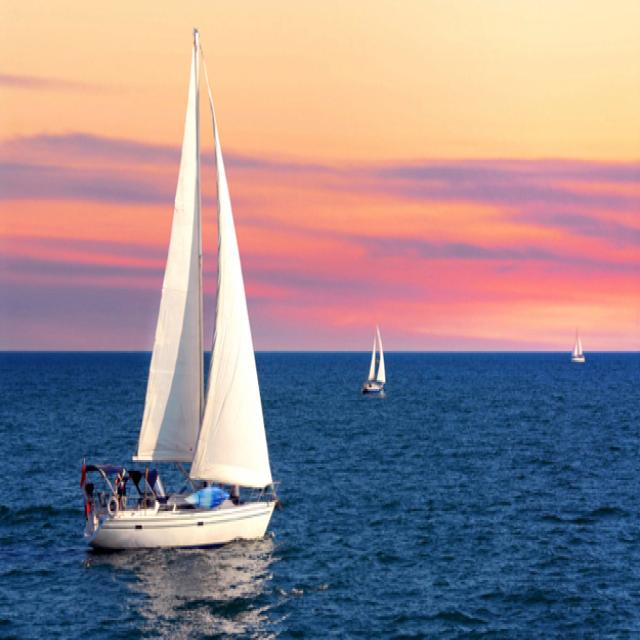boat: (75, 11, 284, 586), (360, 320, 392, 405), (568, 329, 588, 374)
